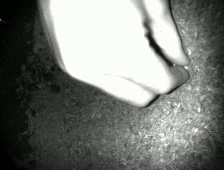corn: (171, 62, 178, 69), (183, 65, 190, 70)
